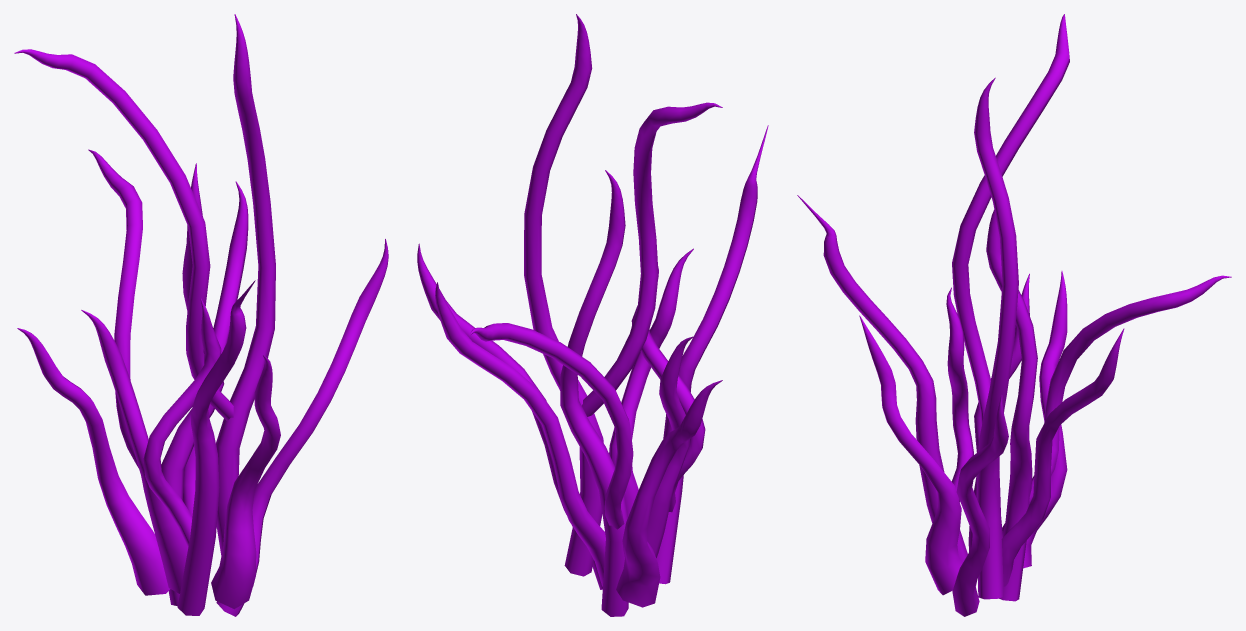
Rendered from plant1.fbx.
3 views of the same model, side by side, from view 1: azimuth 30°, elevation 25°; view 2: azimuth 150°, elevation 25°; view 3: azimuth 270°, elevation 25° (orthographic). The views are drawn at different scales.
Parts seen in each view (by area): view 1: plant1; view 2: plant1; view 3: plant1.
Boxes of the visible parts, <box> form: plant1: <box>14,14,388,616</box>; plant1: <box>417,14,768,616</box>; plant1: <box>797,14,1231,616</box>.
Bounding box in the file's own units: 1.77 × 2.91 × 2.11.
